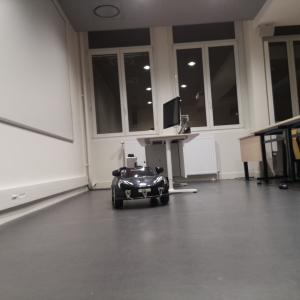big: (110, 164, 173, 210)
